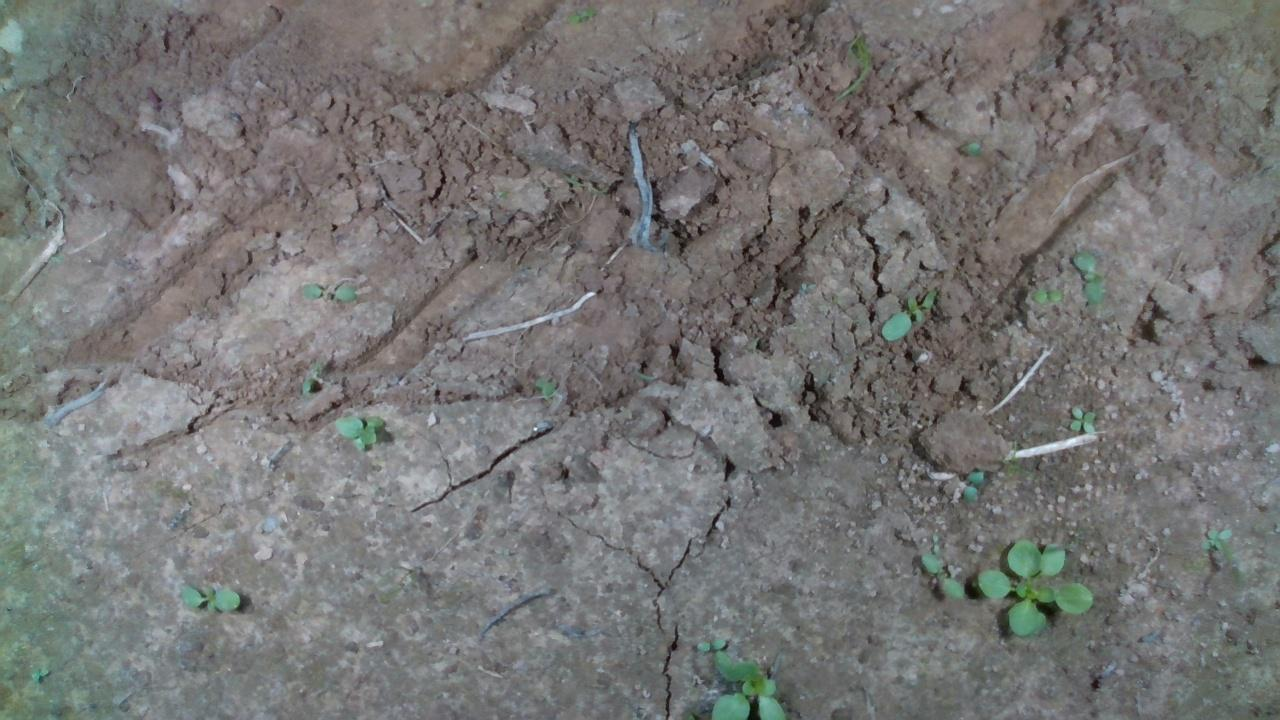weed: (878, 287, 936, 341), (918, 551, 964, 599), (177, 581, 241, 613), (1070, 247, 1104, 304), (299, 282, 358, 302), (1066, 402, 1098, 435), (961, 466, 984, 502), (1027, 286, 1064, 303), (25, 662, 50, 681)
